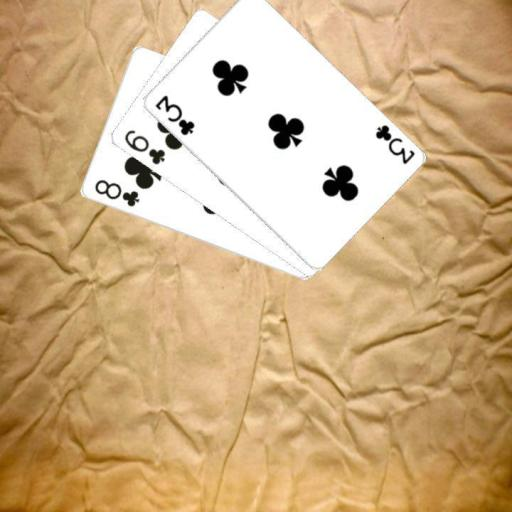card-corner: (151, 92, 196, 137), (371, 121, 416, 166), (120, 126, 166, 166), (90, 176, 141, 208)
